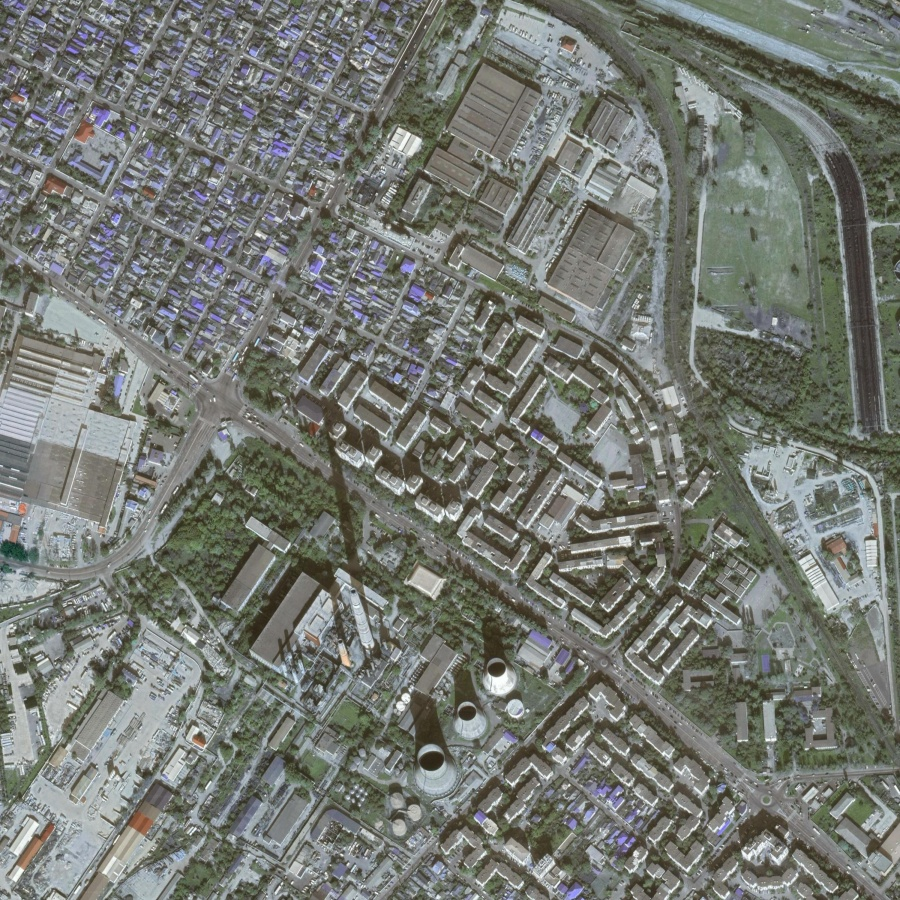PowerPlant: (257, 479, 543, 823)
